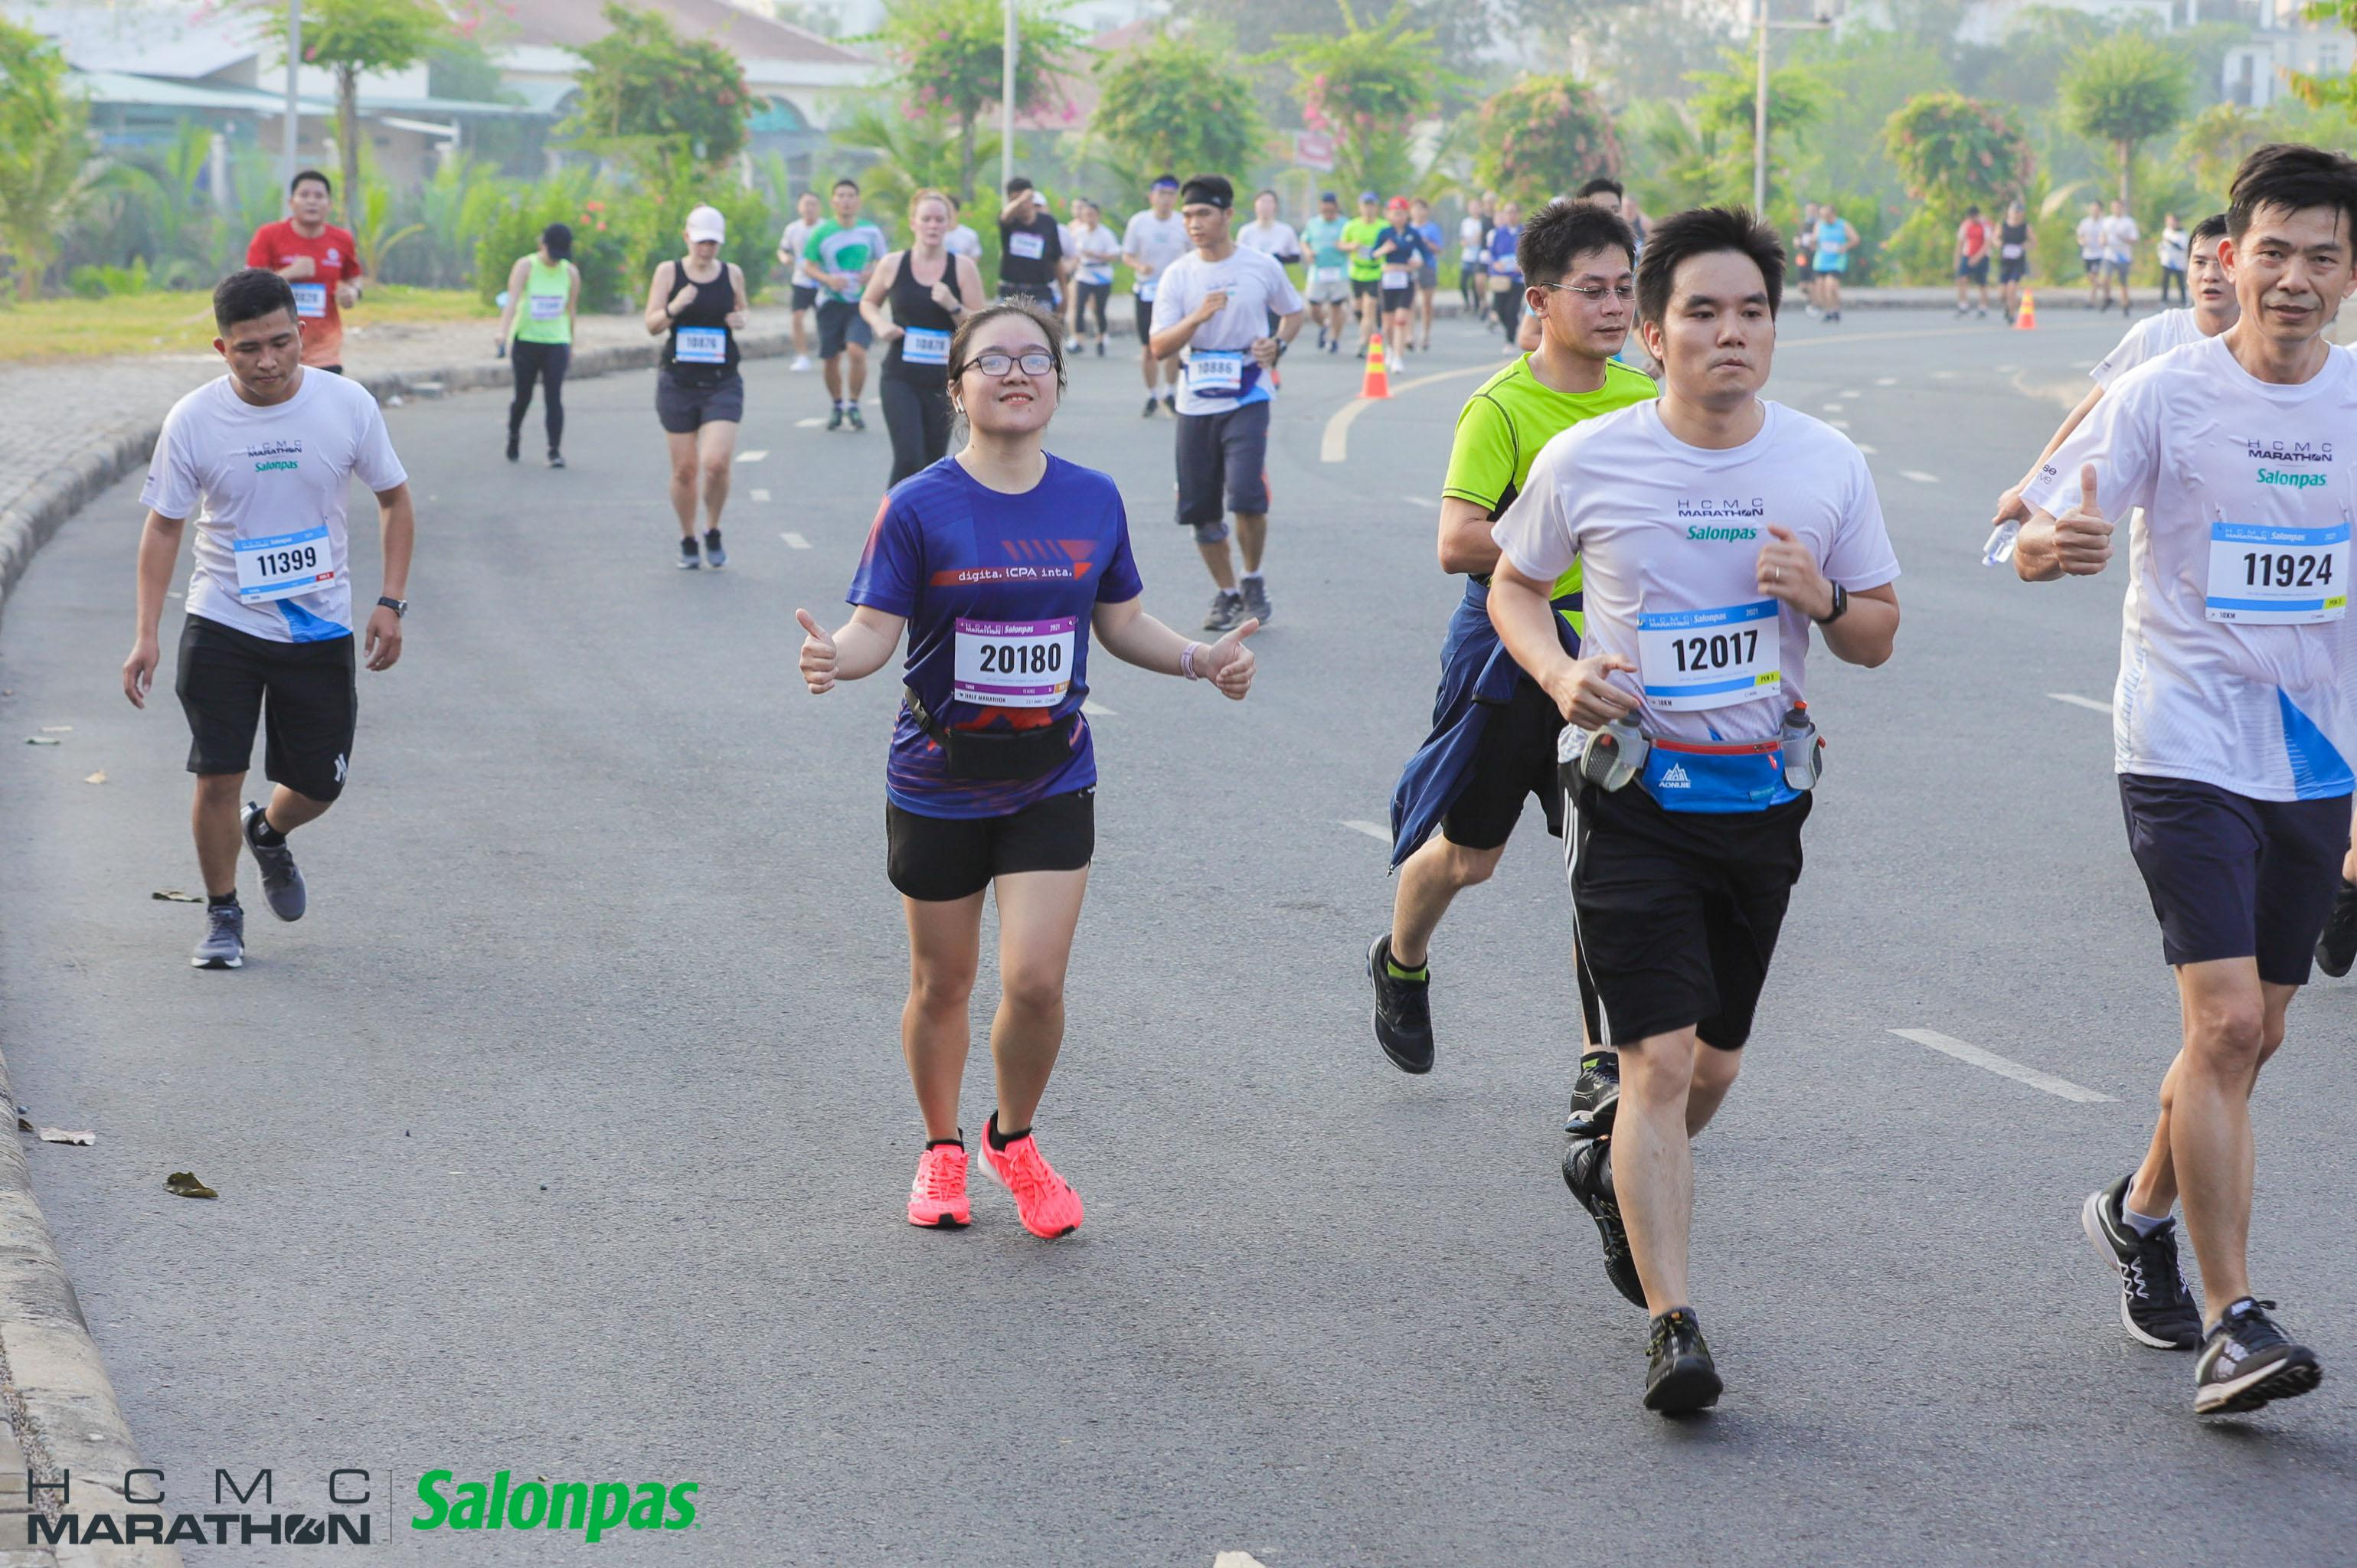bib: (2201, 521, 2350, 625), (1640, 612, 1783, 703), (952, 619, 1076, 703), (236, 537, 332, 591), (674, 325, 724, 364), (1188, 353, 1241, 390), (905, 325, 952, 364), (1008, 233, 1043, 261), (537, 299, 562, 318)
